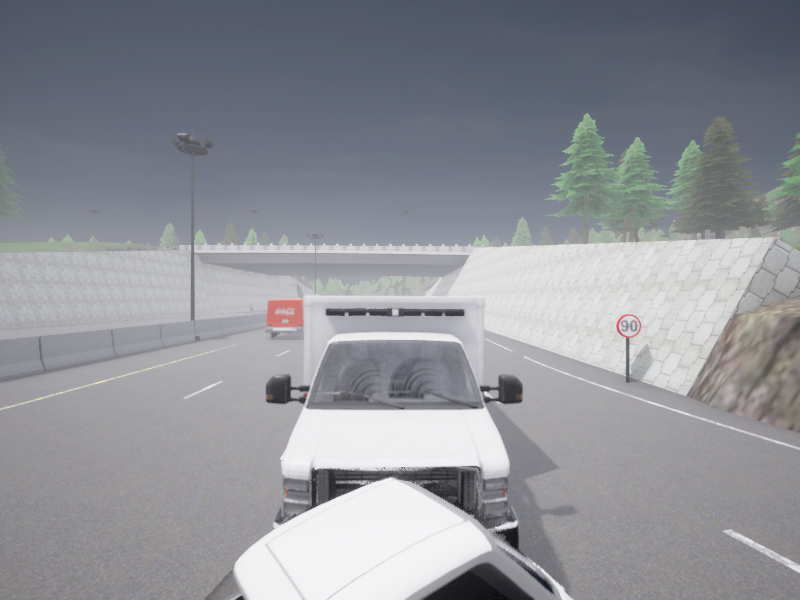vehicle: (265, 295, 522, 550), (204, 478, 571, 599), (266, 299, 303, 336)
